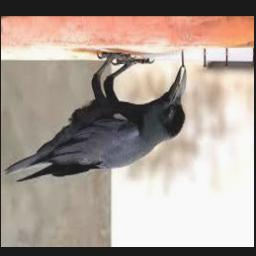Crow: (3, 51, 186, 184)
